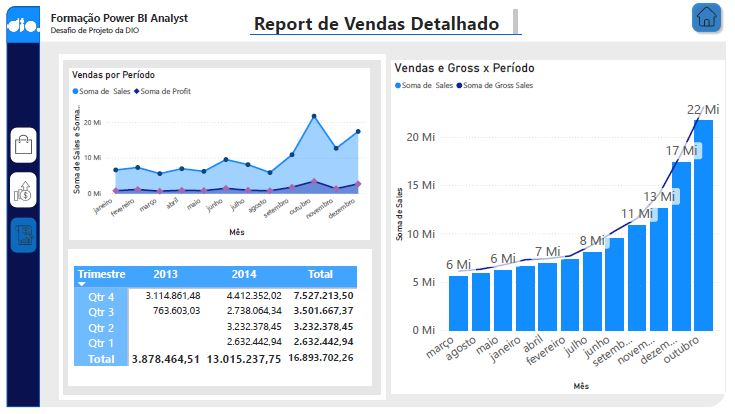

The dashboard page shown, as its layout file describes it:
{"tool":"powerbi","page":{"name":"Report","canvas":[1280,720],"ordinal":2},"visuals":[{"type":"shape","box":[42.6,20.7,1225.3,699.3],"z":0},{"type":"shape","box":[437.3,51.5,473,37.1],"z":0,"group":"g1"},{"type":"shape","box":[103.6,103.6,569.9,601.9],"z":0,"group":"g2"},{"type":"shape","box":[18.9,231.8,45.7,60.9],"z":0,"group":"g4"},{"type":"shape","box":[12.4,20.2,57.7,699.8],"z":1000},{"type":"textbox","box":[438.7,21.3,470.2,52.2],"z":1000,"group":"g1"},{"type":"shape","box":[110.3,114.6,554.7,582.1],"z":1000,"group":"g2"},{"type":"image","title":"Sales_icon","box":[24.4,240,34.6,45.5],"z":1000,"group":"g4"},{"type":"shape","box":[12.4,20.6,57.7,63.2],"z":2000},{"type":"shape","box":[18.2,310,45.7,60.9],"z":2000,"group":"g4"},{"type":"shape","box":[120.1,443.5,528.4,238.2],"z":2000,"group":"g2"},{"type":"image","box":[13.7,33,57.7,39.9],"z":3000},{"type":"areaChart","title":"Vendas por Período","fields":{"Category":["financials.Date.Variation.Hierarquia de datas.Trimestre","financials.Date.Variation.Hierarquia de datas.Mês"],"Y":["Sum(financials. Sales)","Sum(financials.Profit)"]},"box":[120.9,128.6,524.2,298.7],"z":3000,"group":"g2"},{"type":"shape","box":[18.9,389.1,45.7,60.9],"z":3000,"group":"g4"},{"type":"shape","title":"Fundo do Título","box":[71.5,20.6,1198.9,61.9],"z":4000},{"type":"image","title":"Profit_icon","box":[22.4,315.4,36.7,50],"z":4000,"group":"g4"},{"type":"pivotTable","fields":{"Columns":["financials.Date.Variation.Hierarquia de datas.Ano"],"Rows":["financials.Date.Variation.Hierarquia de datas.Trimestre"],"Values":["Sum(financials.Profit)"]},"box":[126,468.4,509.5,189.9],"z":4000,"group":"g2"},{"type":"textbox","title":"Título do report","box":[83.9,22,378.1,63.2],"z":5000},{"type":"image","title":"Report_icon","box":[23,395.4,36.7,49.1],"z":5000,"group":"g4"},{"type":"group","id":"g1","title":"Sales report","box":[437.3,21.3,472.4,67],"z":6000},{"type":"group","id":"g2","title":"Detalhes venda x profit","box":[103.6,103.6,569.9,601.9],"z":7000},{"type":"lineClusteredColumnComboChart","title":"Vendas e Gross x Período","fields":{"Category":["financials.Date.Variation.Hierarquia de datas.Mês"],"Y":["Sum(financials. Sales)"],"Y2":["Sum(financials.Gross Sales)"]},"box":[684.2,114.3,580.6,582.1],"z":8000},{"type":"group","id":"g3","title":"Grupo 1","box":[1202,8,66,64],"z":9000},{"type":"group","id":"g4","title":"Grupo 2","box":[18.2,231.8,46.4,218.2],"z":9001},{"type":"shape","box":[1202,8,65.5,64.5],"z":13000,"group":"g3"},{"type":"image","title":"home_icon","box":[1213.8,19.8,41.8,38.2],"z":14000,"group":"g3"}]}

Visuals, with their boxes on the page's 1280x720 design canvas (x1, y1, x2, y2). These are canvas units, not pixel positions in the 735x414 screenshot, which may show the page scaled, cropped or inside an application window:
shape: detection(43, 21, 1268, 720)
shape: detection(437, 52, 910, 89)
shape: detection(104, 104, 674, 706)
shape: detection(19, 232, 65, 293)
shape: detection(12, 20, 70, 720)
textbox: detection(439, 21, 909, 74)
shape: detection(110, 115, 665, 697)
"Sales_icon" image: detection(24, 240, 59, 286)
shape: detection(12, 21, 70, 84)
shape: detection(18, 310, 64, 371)
shape: detection(120, 444, 648, 682)
image: detection(14, 33, 71, 73)
"Vendas por Período" areaChart: detection(121, 129, 645, 427)
shape: detection(19, 389, 65, 450)
"Fundo do Título" shape: detection(72, 21, 1270, 82)
"Profit_icon" image: detection(22, 315, 59, 365)
pivotTable - financials.Date.Variation.Hierarquia de datas.Ano x financials.Date.Variation.Hierarquia de datas.Trimestre: detection(126, 468, 636, 658)
"Título do report" textbox: detection(84, 22, 462, 85)
"Report_icon" image: detection(23, 395, 60, 444)
"Sales report" group: detection(437, 21, 910, 88)
"Detalhes venda x profit" group: detection(104, 104, 674, 706)
"Vendas e Gross x Período" lineClusteredColumnComboChart: detection(684, 114, 1265, 696)
"Grupo 1" group: detection(1202, 8, 1268, 72)
"Grupo 2" group: detection(18, 232, 65, 450)
shape: detection(1202, 8, 1268, 72)
"home_icon" image: detection(1214, 20, 1256, 58)
